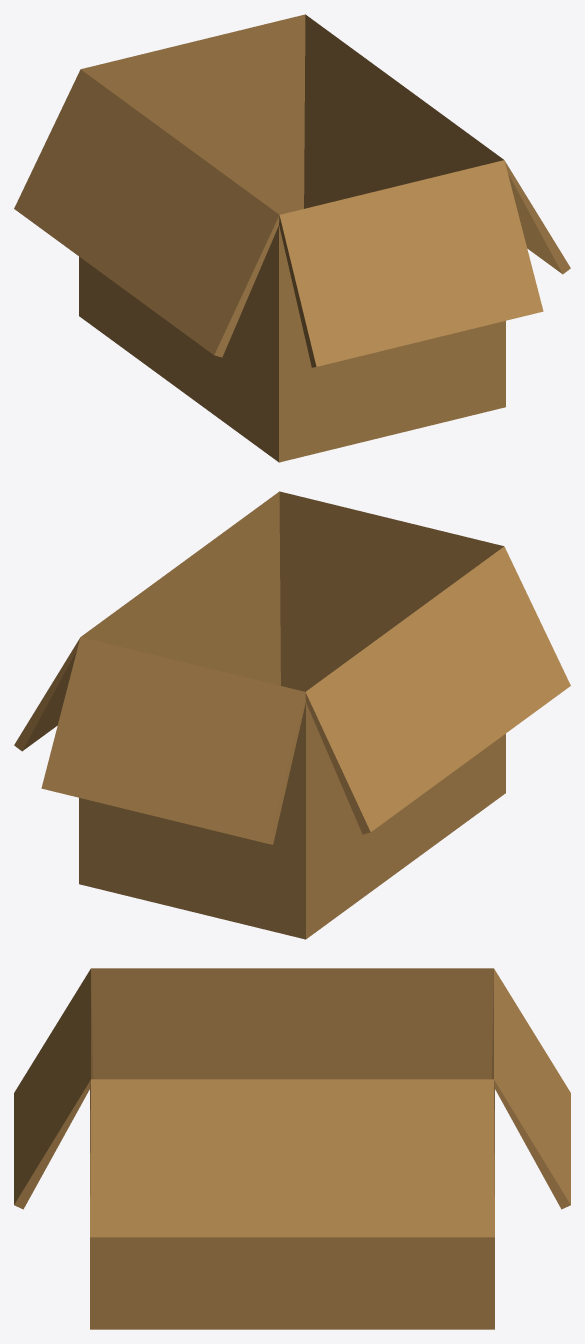
The picture shows the model from 3 angles, top to bottom: view 1: azimuth 30°, elevation 25°; view 2: azimuth 150°, elevation 25°; view 3: azimuth 270°, elevation 25°; orthographic projection.
Parts seen in each view (by area): view 1: BoxOne; view 2: BoxOne; view 3: BoxOne.
Part boxes in pixels (left/top/right/bottom): BoxOne: left=14, top=14, right=570, bottom=462; BoxOne: left=14, top=491, right=570, bottom=939; BoxOne: left=14, top=968, right=570, bottom=1329.
Size of the model in its own units: 314 by 208 by 420.
